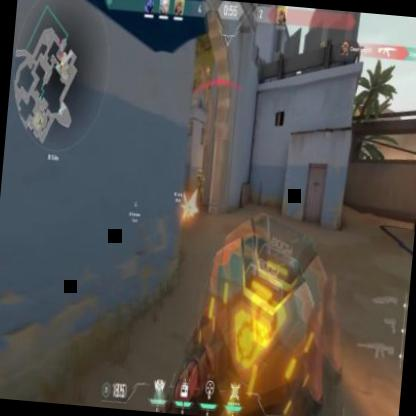enemy: (191, 168, 206, 210)
enemy_head: (199, 171, 203, 176)
